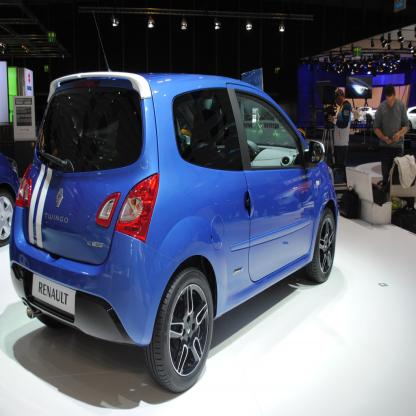Car: (10, 12, 339, 394), (1, 153, 21, 247), (247, 121, 285, 145), (346, 78, 373, 100), (352, 108, 377, 124), (403, 107, 416, 135), (246, 70, 263, 88), (181, 126, 192, 138), (298, 128, 307, 141), (286, 133, 291, 141)
